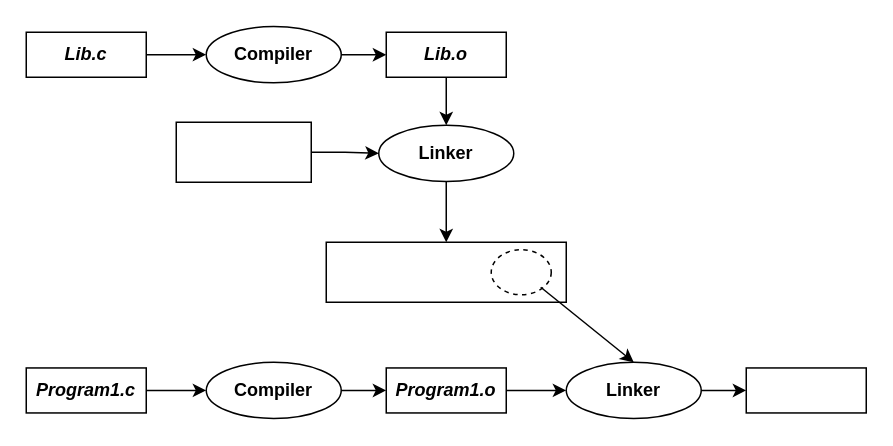
Image size: 893x446. Some labels were removed from this diagram. The box of each missing label's shape, as (x1, y1, x2, y2) in pixels:
C Runtime Library: (175, 121, 311, 182)
Lib.so: (325, 241, 566, 302)
Program1: (745, 366, 866, 413)
Stub: (490, 248, 551, 295)
